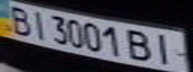0: (81, 20, 103, 53), (63, 17, 84, 50)
1: (100, 24, 124, 57)
3: (45, 12, 69, 46)
B: (124, 27, 157, 63), (3, 2, 36, 36)
I: (148, 30, 184, 66), (24, 8, 51, 41)
